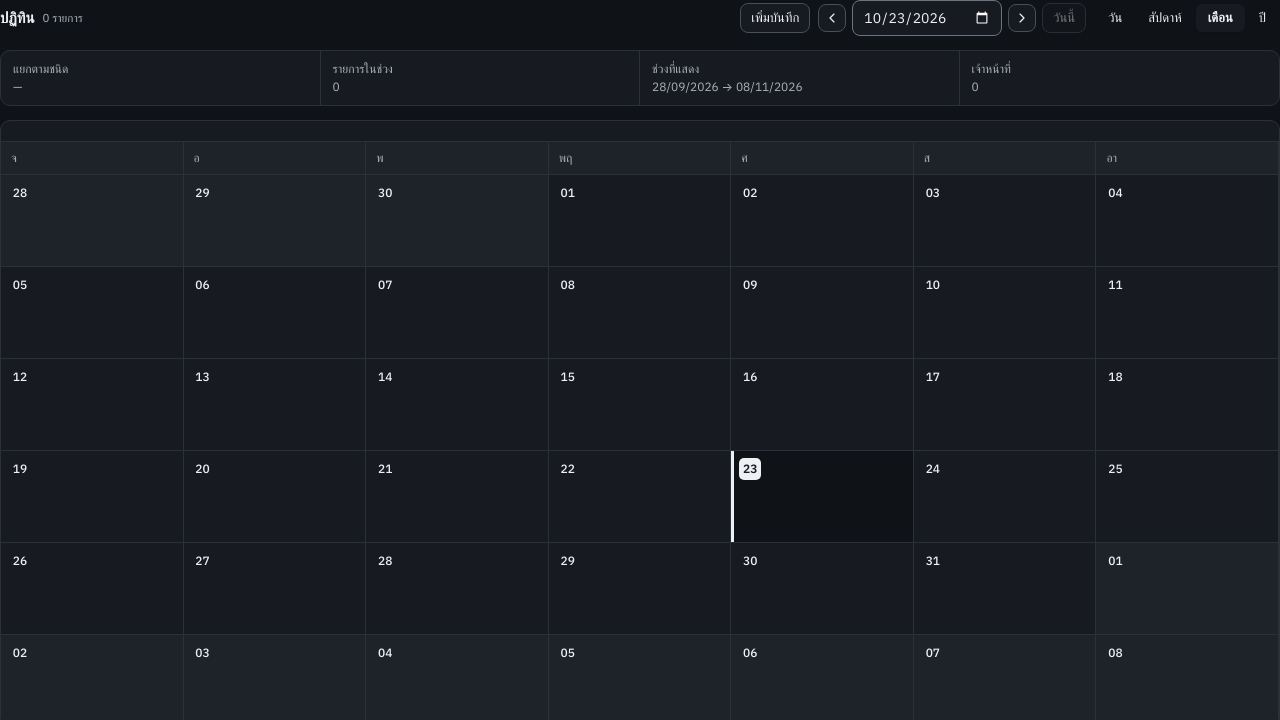
Test: Calendar · the day / week / month / year picker › switches to the day unit and asks for that one day
What coordinates should you click on to do the following:
click the radio button labelled "วัน"
I would click on:
 (1115, 18)
Its box is [1096,4,1134,32].
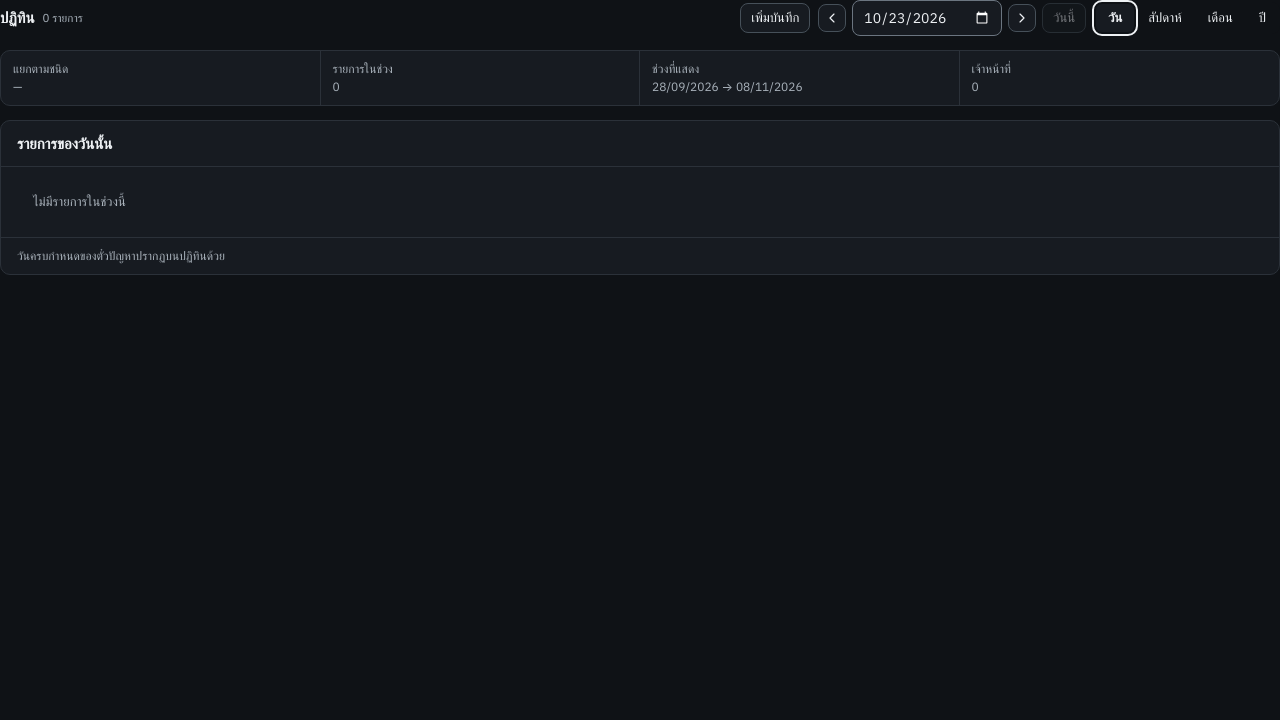
Now the heading "รายการของวันนั้น" is shown, box [17,132,112,154]
